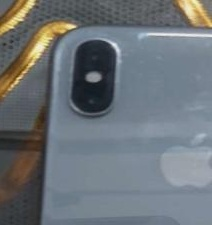scratch: (123, 42, 184, 74), (185, 24, 212, 66), (194, 65, 212, 89)
